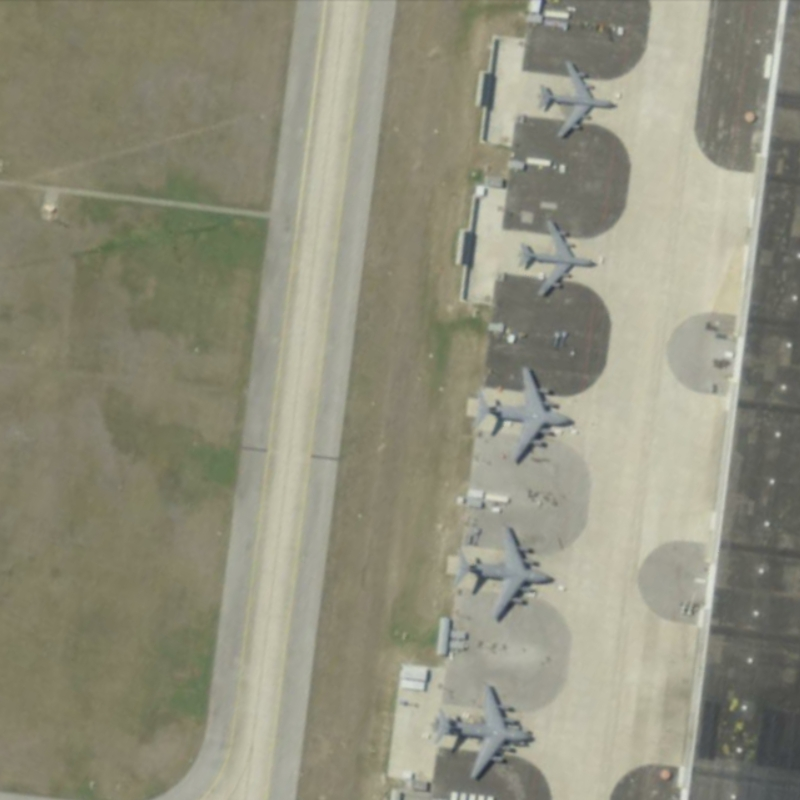A14: (512, 210, 599, 298), (533, 54, 617, 142)
A3: (426, 674, 539, 785), (449, 516, 559, 623), (465, 361, 576, 466)
